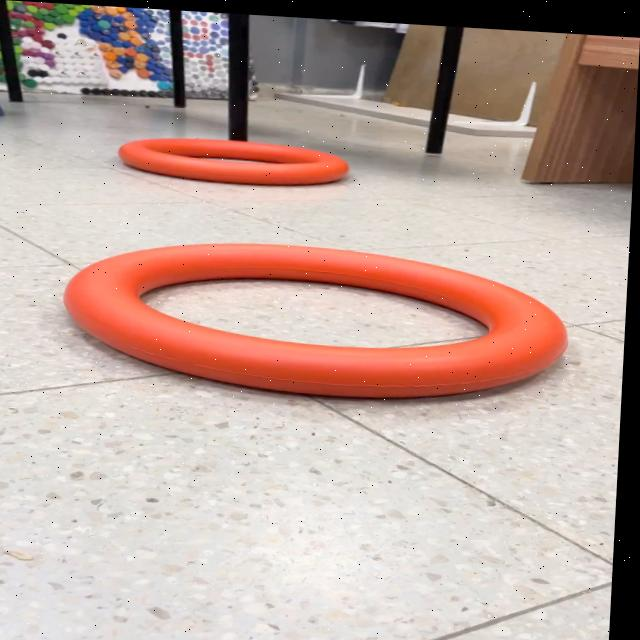note: (60, 229, 578, 405), (117, 130, 355, 188)
